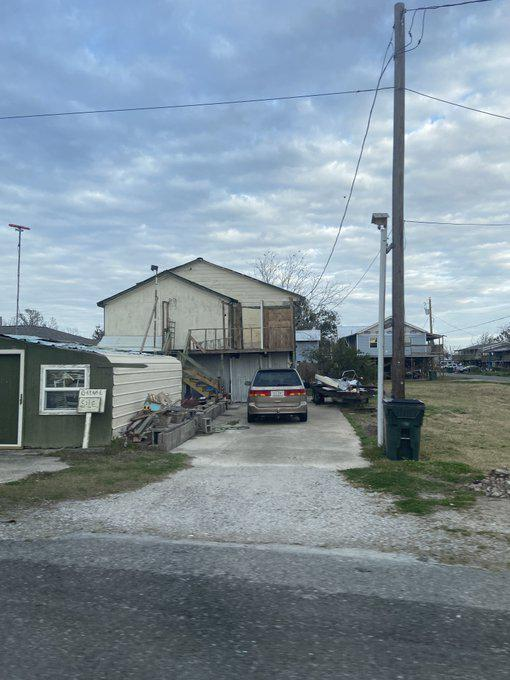minor: (60, 241, 336, 434)
